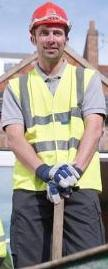gloves: (35, 163, 82, 205), (0, 226, 10, 259)
hard-hat: (29, 0, 71, 32)
ppe-suit: (0, 58, 107, 268)
